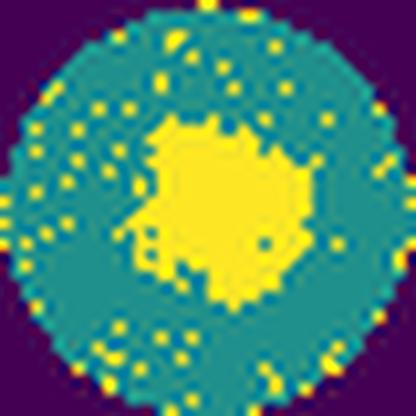Center: (116, 112, 316, 316)
